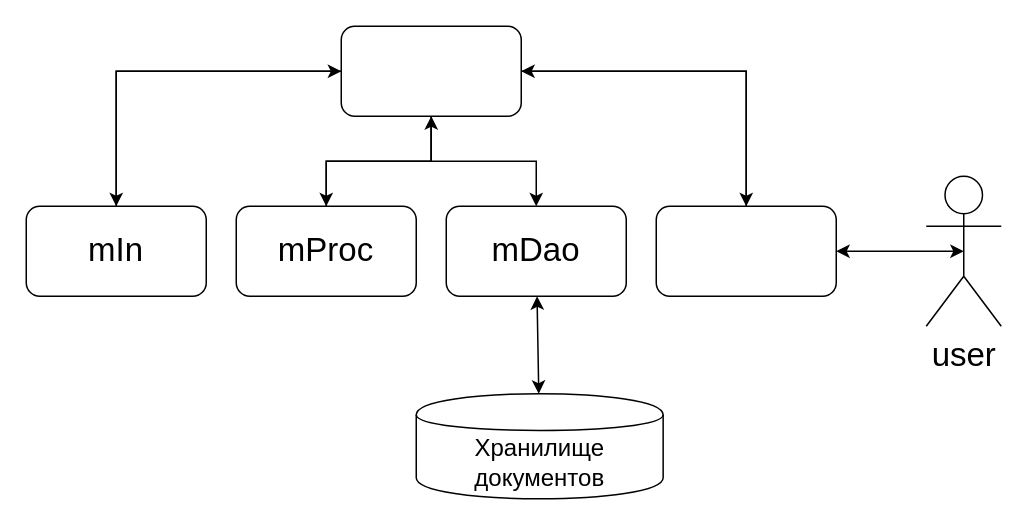
Some shapes in this 1028 by 525 pixel diagram are drawn without their labels. The box of each missing label's shape, as (x1, y1, x2, y2) in pixels:
mControl: (340, 25, 521, 116)
mVis: (655, 205, 836, 296)
